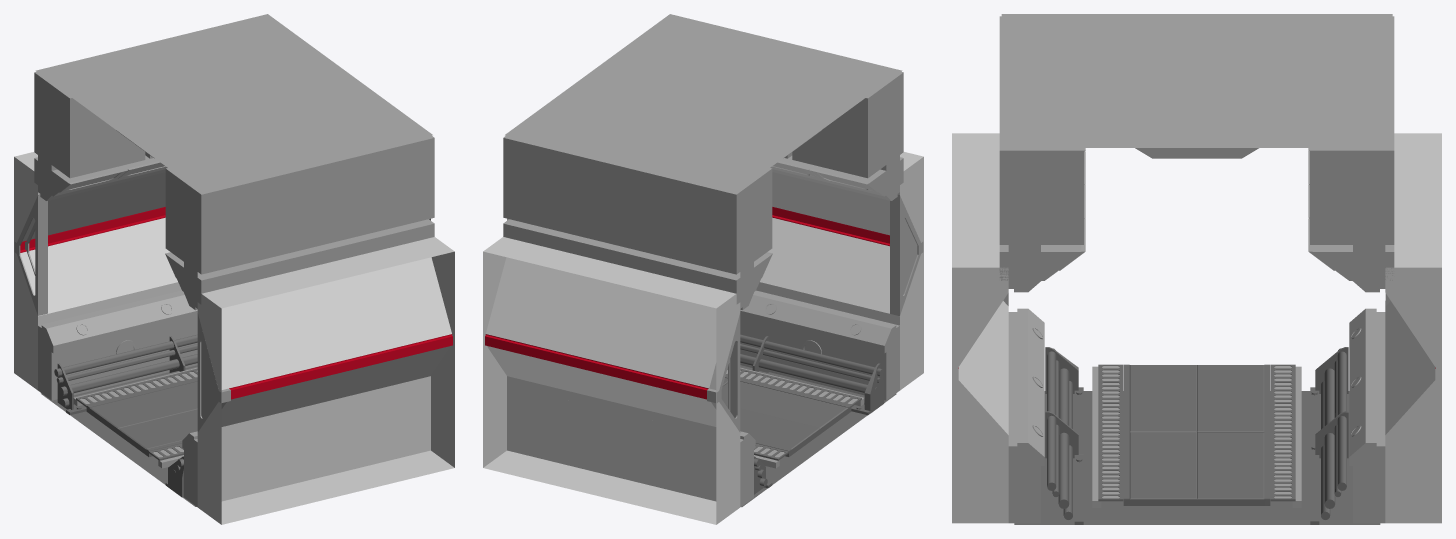
Rendered from Corridor_Chunk_1_ReModel_No_UVs.fbx.
The picture shows the model from 3 angles, left to right: view 1: azimuth 30°, elevation 25°; view 2: azimuth 150°, elevation 25°; view 3: azimuth 270°, elevation 25°; orthographic projection. The views are drawn at different scales.
Visible parts, largest first — view 1: polySurface74, Roof, polySurface52, polySurface102, polySurface114, polySurface10, polySurface51, polySurface103, polySurface116, polySurface81, Floor, polySurface4 (+7 smaller); view 2: polySurface102, Roof, polySurface10, polySurface74, polySurface75, polySurface52, polySurface81, polySurface4, polySurface103, Floor, polySurface116, polySurface51 (+8 smaller); view 3: Roof, polySurface102, polySurface74, polySurface10, Floor, polySurface52, polySurface75, polySurface114, polySurface49, polySurface88, polySurface81, polySurface103 (+18 smaller).
Boxes of the visible parts, x1,y1,x2,y2 form: polySurface74: (197,237,454,524); Roof: (35,14,432,191); polySurface52: (165,135,434,274); polySurface102: (14,152,181,390); polySurface114: (38,290,197,400); polySurface10: (34,72,167,196); polySurface51: (166,219,434,304); polySurface103: (89,381,197,434); polySurface116: (14,195,47,315); polySurface81: (118,409,197,454); Floor: (41,365,197,506); polySurface4: (197,313,230,432); polySurface102: (483,237,740,524); Roof: (505,14,902,191); polySurface10: (503,135,772,304); polySurface74: (756,152,923,390); polySurface75: (740,290,899,400); polySurface52: (784,71,903,178); polySurface81: (721,381,848,433); polySurface4: (890,194,923,315); polySurface103: (726,406,820,454); Floor: (740,365,896,507); polySurface116: (707,313,740,432); polySurface51: (770,156,903,196); Roof: (1001,14,1392,158); polySurface102: (1385,133,1441,523); polySurface74: (952,133,1008,523); polySurface10: (1310,16,1394,280); Floor: (1014,391,1380,524); polySurface52: (999,16,1083,244); polySurface75: (1008,308,1044,523); polySurface114: (1349,308,1385,523); polySurface49: (1129,432,1196,505); polySurface88: (1197,432,1264,505); polySurface81: (1129,365,1196,432); polySurface103: (1197,365,1264,432).
Size of the model in its own units: 551 by 720 by 849.
